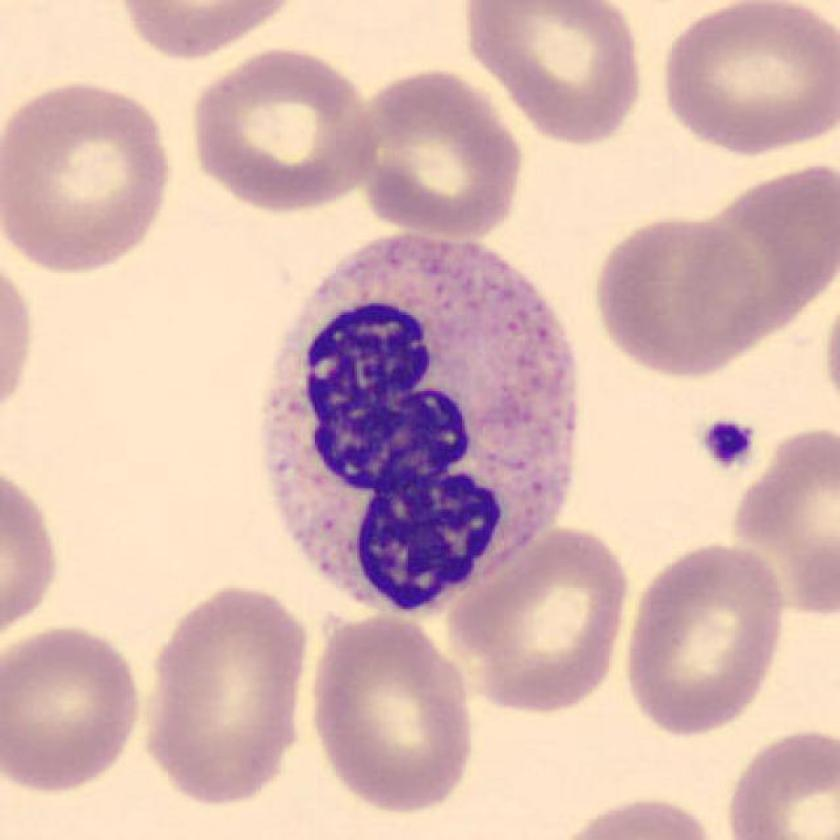neutrophil: (265, 236, 578, 607)
